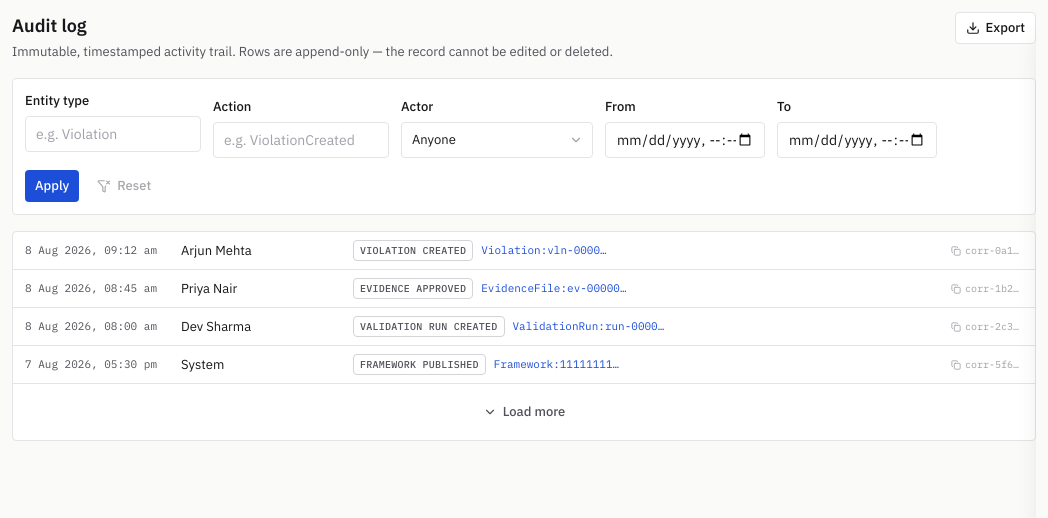
AuditView (§9.12) › loads more rows with cursor pagination and marks the end
Check: the text "Violation Created" is shown, box left=353, top=240, right=473, bottom=261
Check: the text "User Invited" is not shown
Click the button "Load more".
click(524, 412)  # box left=473, top=396, right=575, bottom=428
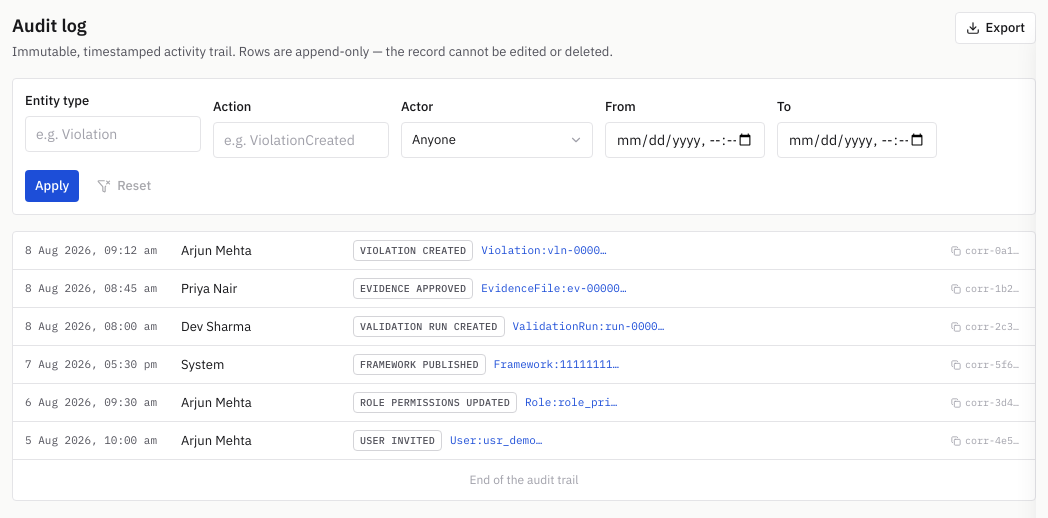
Check: the text "User Invited" is shown, box left=353, top=430, right=442, bottom=451
Check: the text "End of the audit trail" is shown, box left=470, top=472, right=578, bottom=488
Check: the button "Load more" is gone
